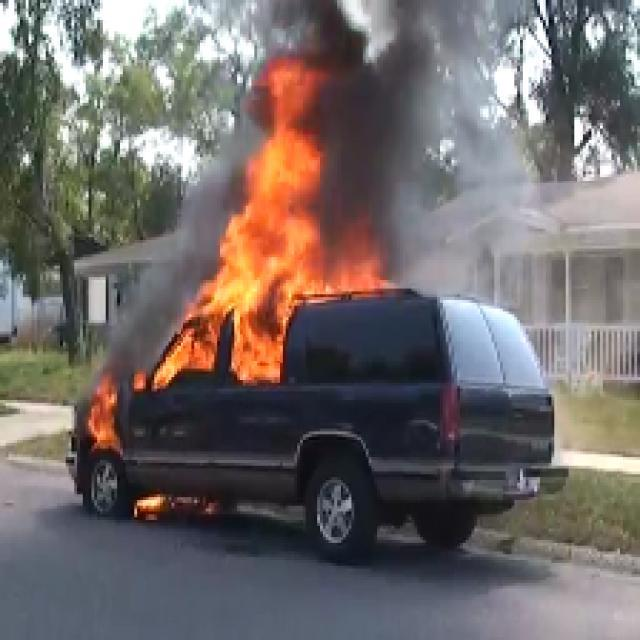Fire: (228, 72, 318, 372), (184, 297, 224, 372)
Smoke: (344, 24, 419, 218)
